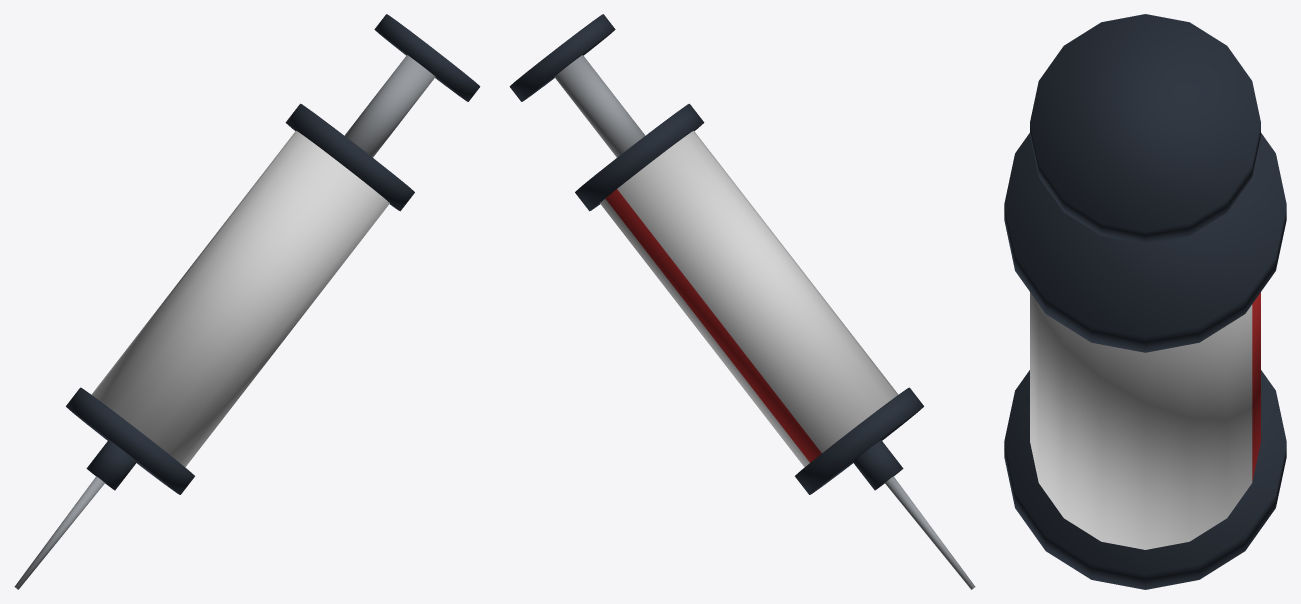
File: MEDIKIT 1.fbx
3 renders of one model, left to right at view 1: azimuth 30°, elevation 25°; view 2: azimuth 150°, elevation 25°; view 3: azimuth 270°, elevation 25°, orthographic. The views are drawn at different scales.
Visible parts, largest first — view 1: Circle.002; view 2: Circle.002; view 3: Circle.002.
Part boxes in pixels (x1,y1,x2,y2): Circle.002: [14, 14, 480, 589]; Circle.002: [509, 14, 975, 589]; Circle.002: [1004, 14, 1286, 589].
Size of the model in its own units: 24.43 by 87.82 by 87.82.
